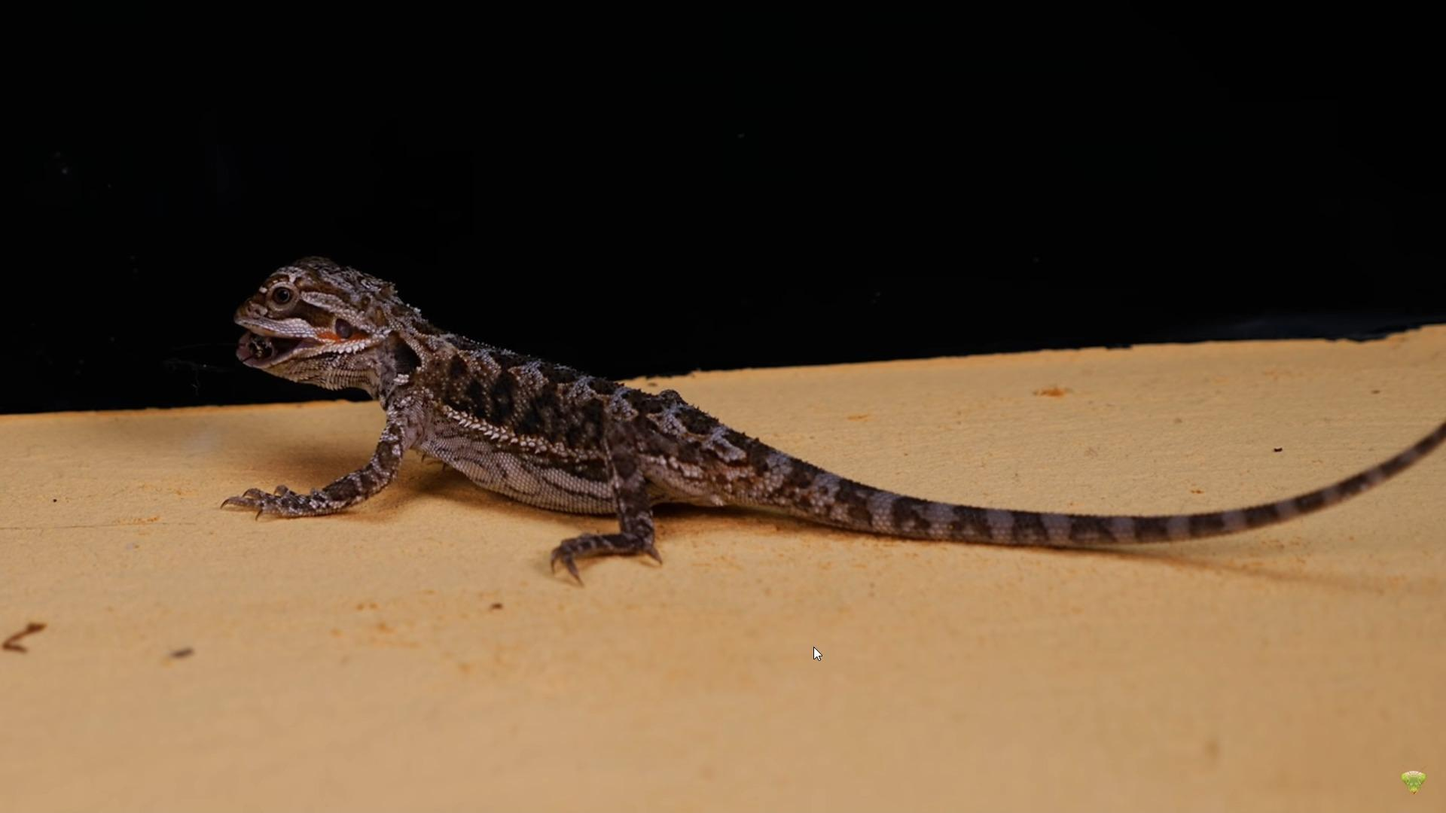cockroach: (239, 330, 293, 366)
lizard: (229, 239, 1285, 595)
